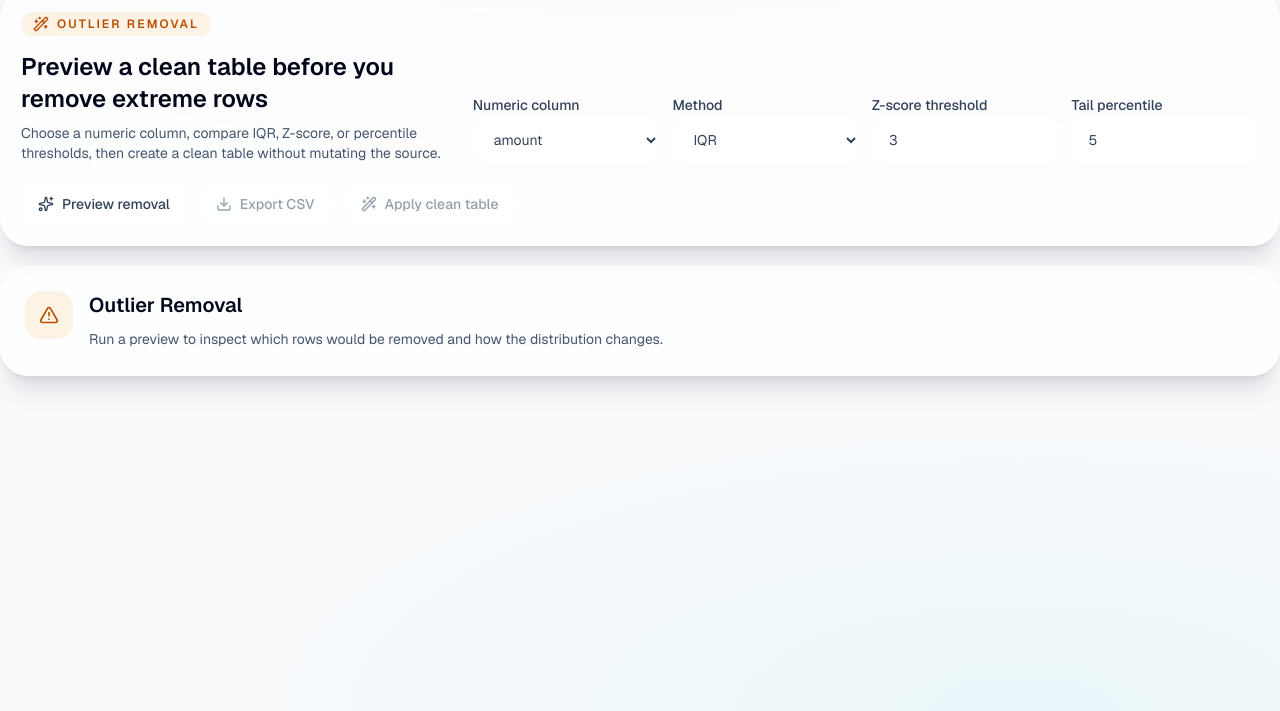
Test: OutlierRemoval › applies a clean table using the active z-score configuration
Select "Z-score" in the dropdown labelled "Method" at (766, 140), box [672,117,860,163]
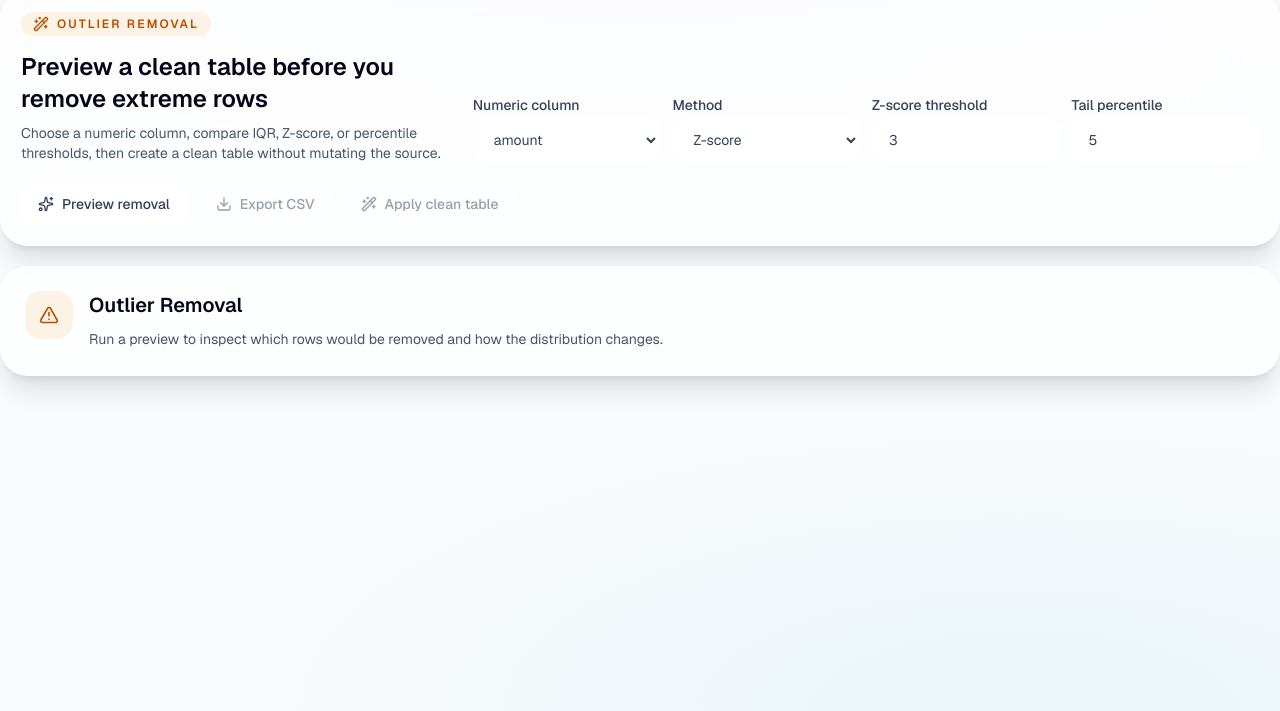
Replace the text in the field labelled "Z-score threshold" with "2.5" at (966, 140), box [872,117,1059,163]
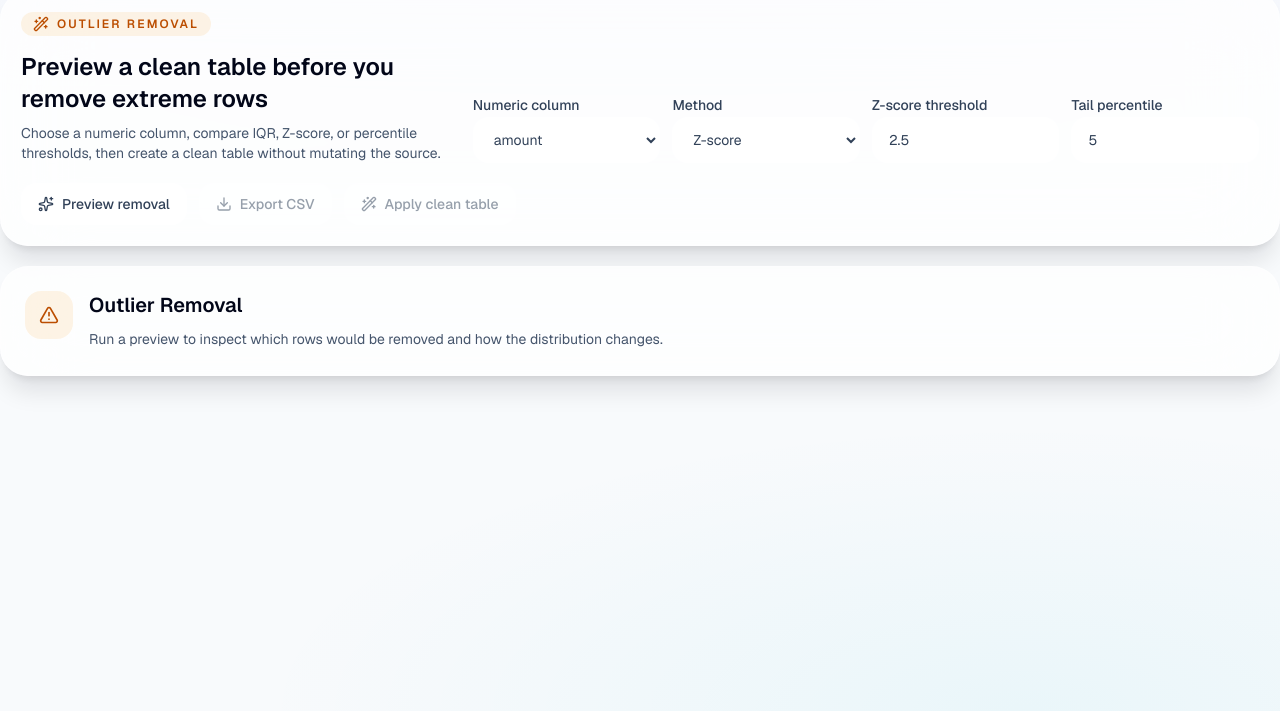
Click the button "Preview removal".
click(104, 204)  # box [21,183,187,225]
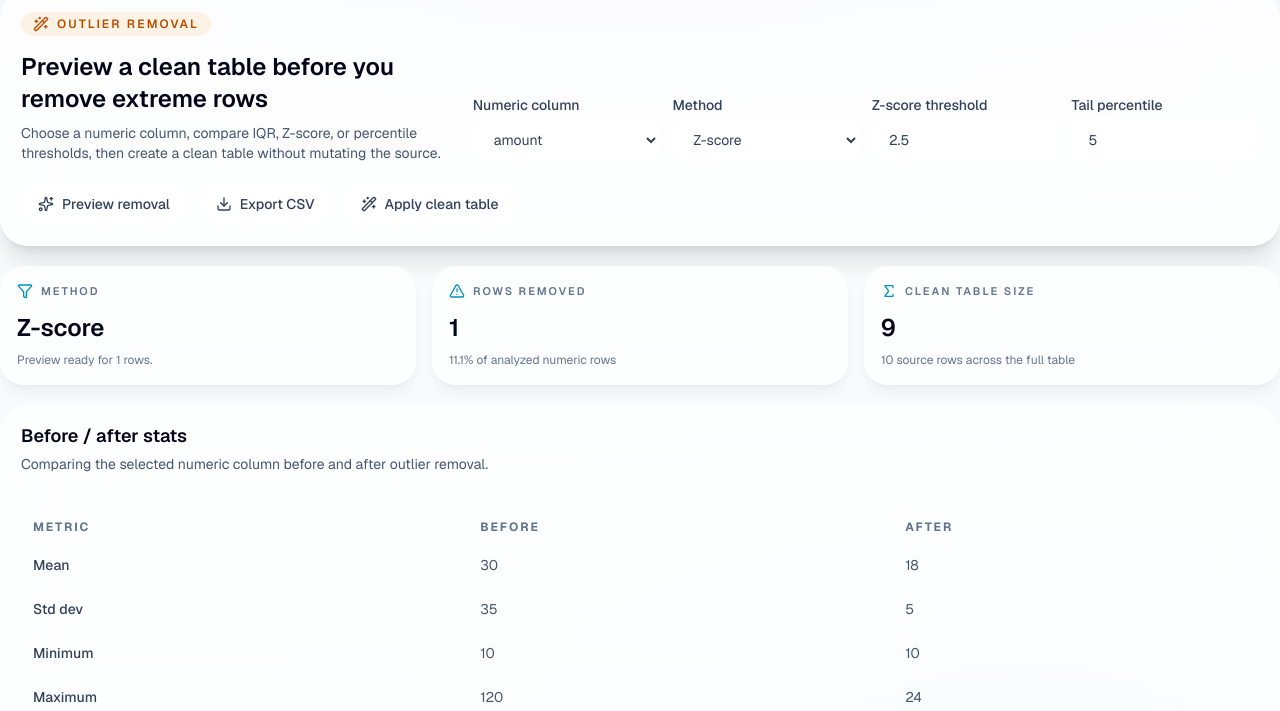
Check: the text "Preview ready for 1 rows." is shown, box [17,352,152,368]
Click the button "Apply clean table".
click(430, 204)  # box [344,183,516,225]
(page scrolled)
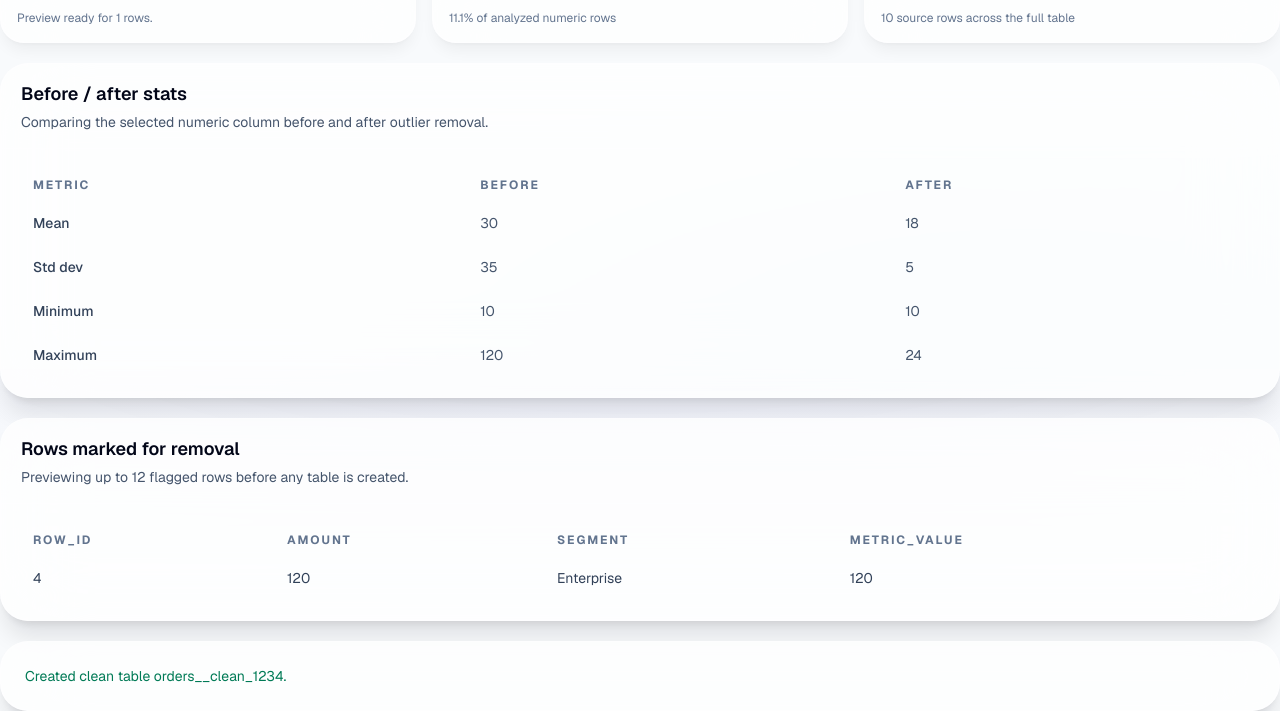
Check: the text "Created clean table orders__clean_1234." is shown, box [0,640,1279,710]
